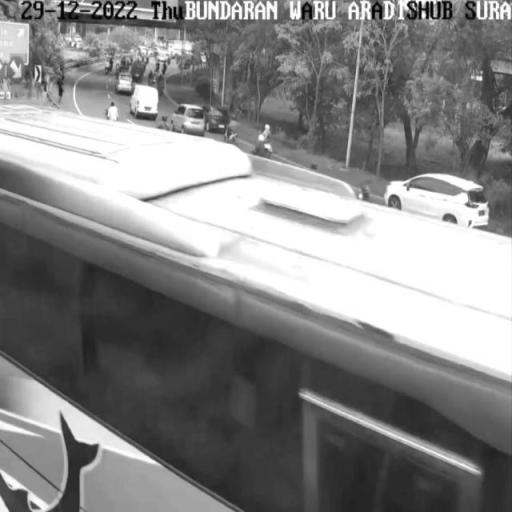bus: (0, 105, 512, 512)
car: (383, 171, 492, 228), (132, 84, 160, 118), (171, 105, 205, 132), (204, 106, 229, 130)
